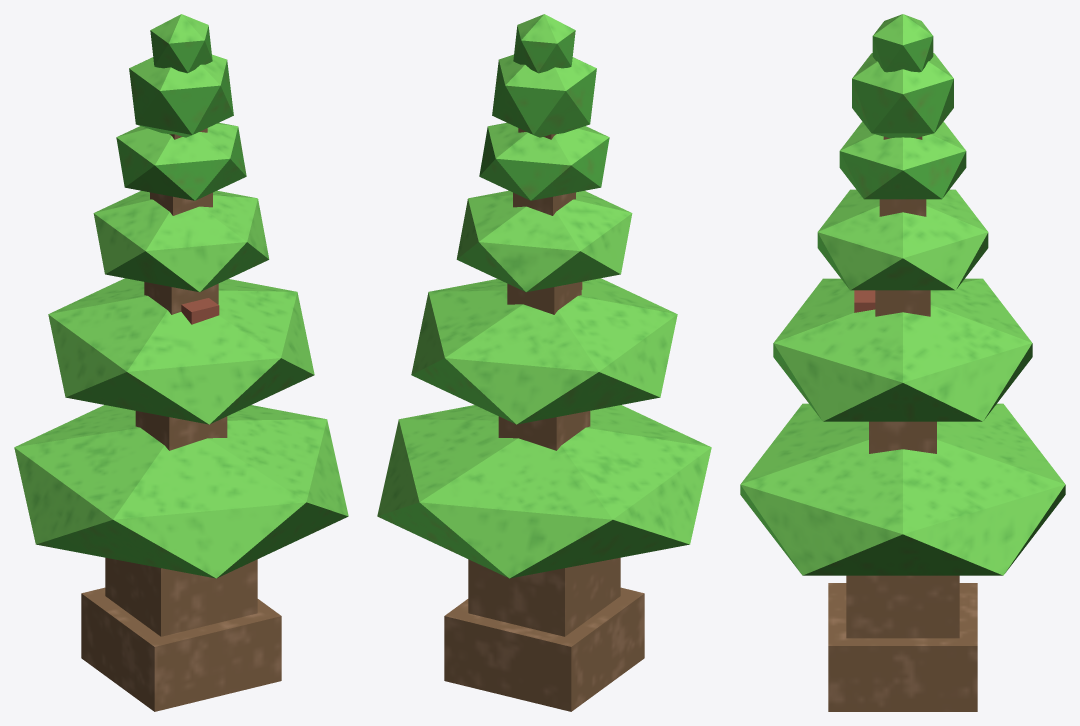
Rendered from tree_pine_knot.glb.
3 views of the same model, side by side, from view 1: azimuth 30°, elevation 25°; view 2: azimuth 150°, elevation 25°; view 3: azimuth 270°, elevation 25° (orthographic).
Visible parts, largest first — view 1: tree_pine_knot_export_tmp; view 2: tree_pine_knot_export_tmp; view 3: tree_pine_knot_export_tmp.
Part boxes in pixels (x1,y1,x2,y2): tree_pine_knot_export_tmp: (14, 14, 348, 711); tree_pine_knot_export_tmp: (377, 14, 711, 711); tree_pine_knot_export_tmp: (740, 14, 1065, 711).
Bounding box in the file's own units: 2.11 × 4.54 × 2.01.
4 materials, 3 textured.
